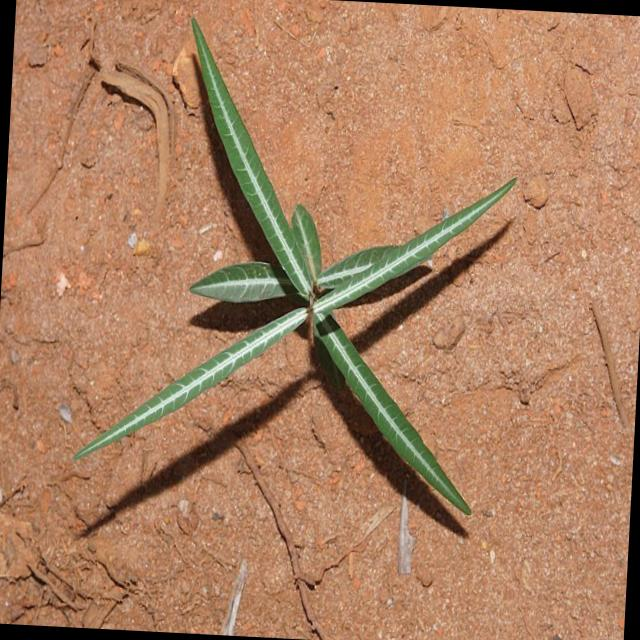Anantamul: (92, 12, 530, 579)
